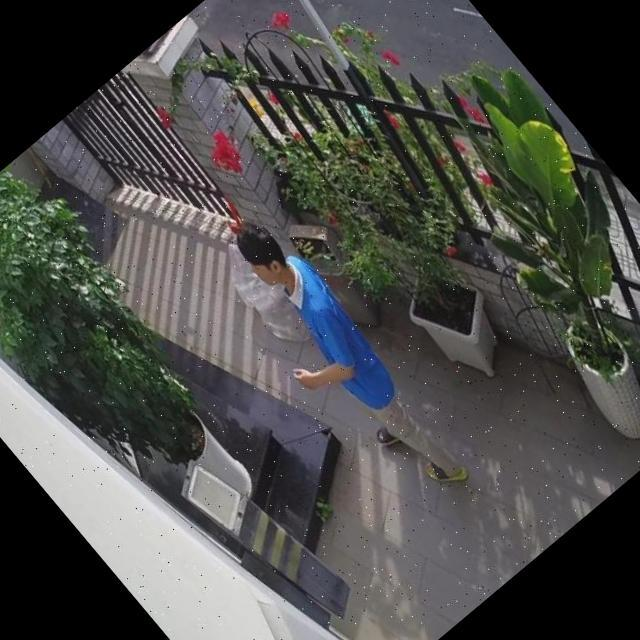person: (199, 207, 478, 518)
